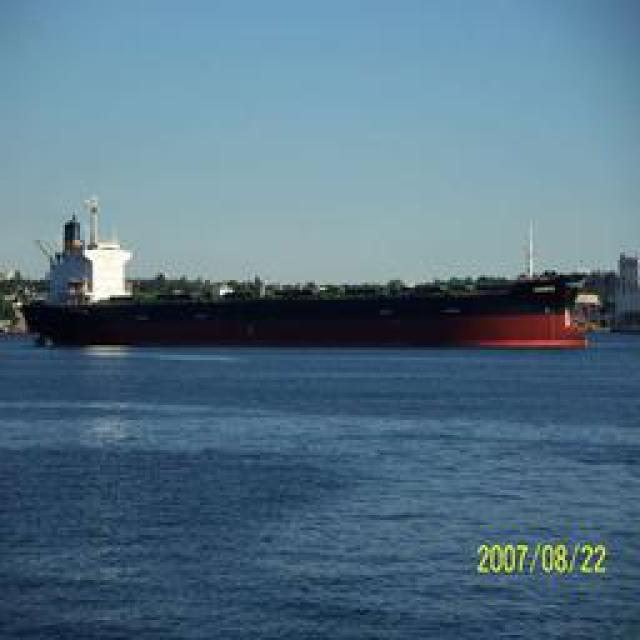Ship: (24, 273, 589, 351)
